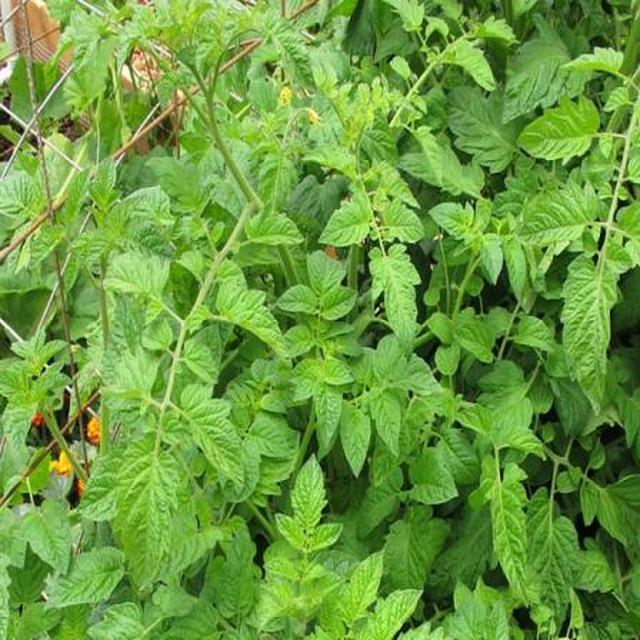Healthy Leaf: (35, 48, 640, 640)
